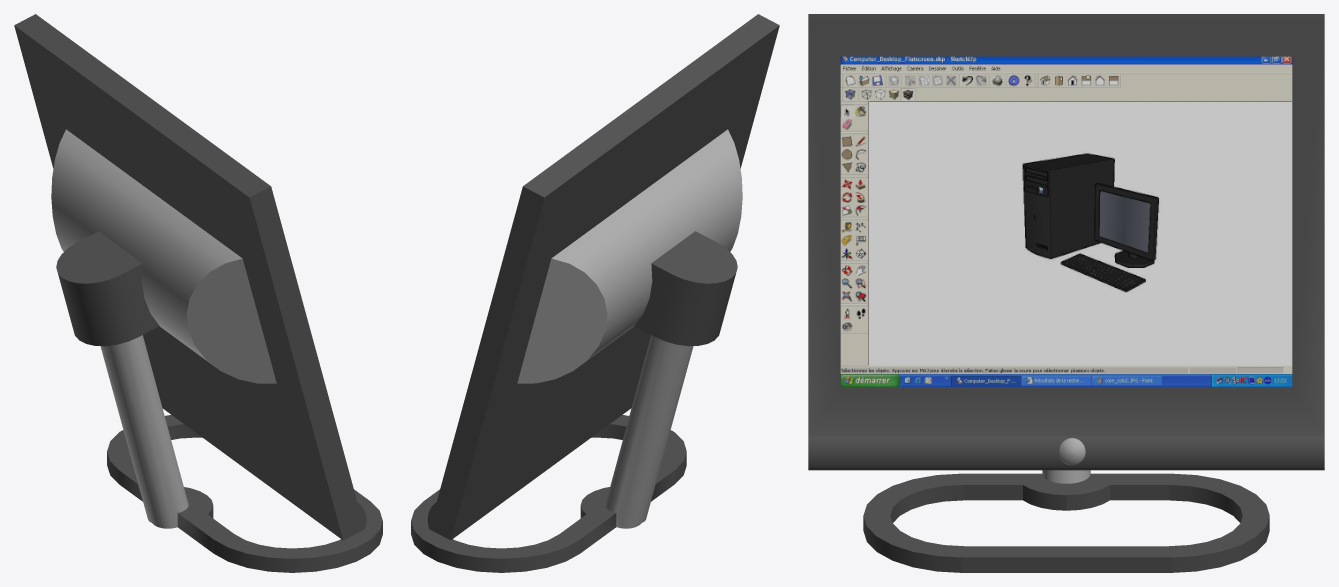
3 renders of one model, left to right at view 1: azimuth 30°, elevation 25°; view 2: azimuth 150°, elevation 25°; view 3: azimuth 270°, elevation 25°, orthographic. The views are drawn at different scales.
Parts seen in each view (by area): view 1: mesh1-geometry-1, mesh1-geometry-0; view 2: mesh1-geometry-1, mesh1-geometry-0; view 3: mesh1-geometry-2, mesh1-geometry-1.
Boxes of the visible parts, <box> form: mesh1-geometry-1: <box>14,14,382,572</box>; mesh1-geometry-0: <box>51,129,276,528</box>; mesh1-geometry-1: <box>411,14,779,572</box>; mesh1-geometry-0: <box>517,129,742,528</box>; mesh1-geometry-2: <box>840,56,1292,386</box>; mesh1-geometry-1: <box>808,14,1324,572</box>.
Size of the model in its own units: 0.4138 by 0.6411 by 0.6463.
Materials: 4 (1 with a texture image).
